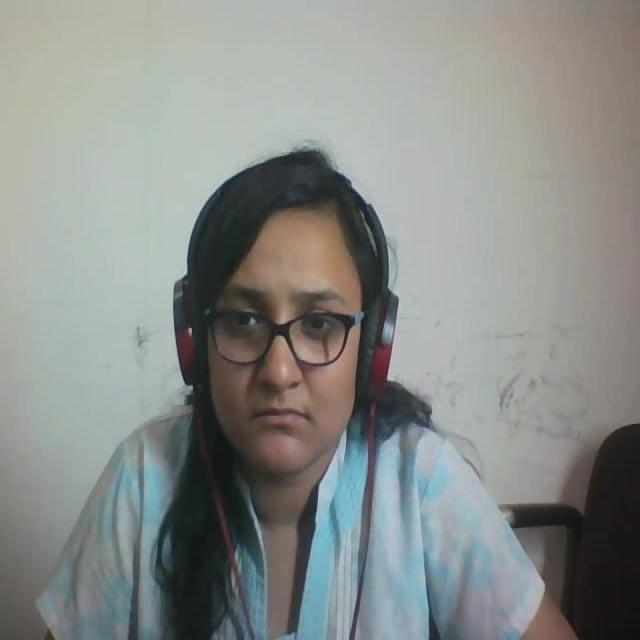Engaged: (176, 134, 430, 481)
